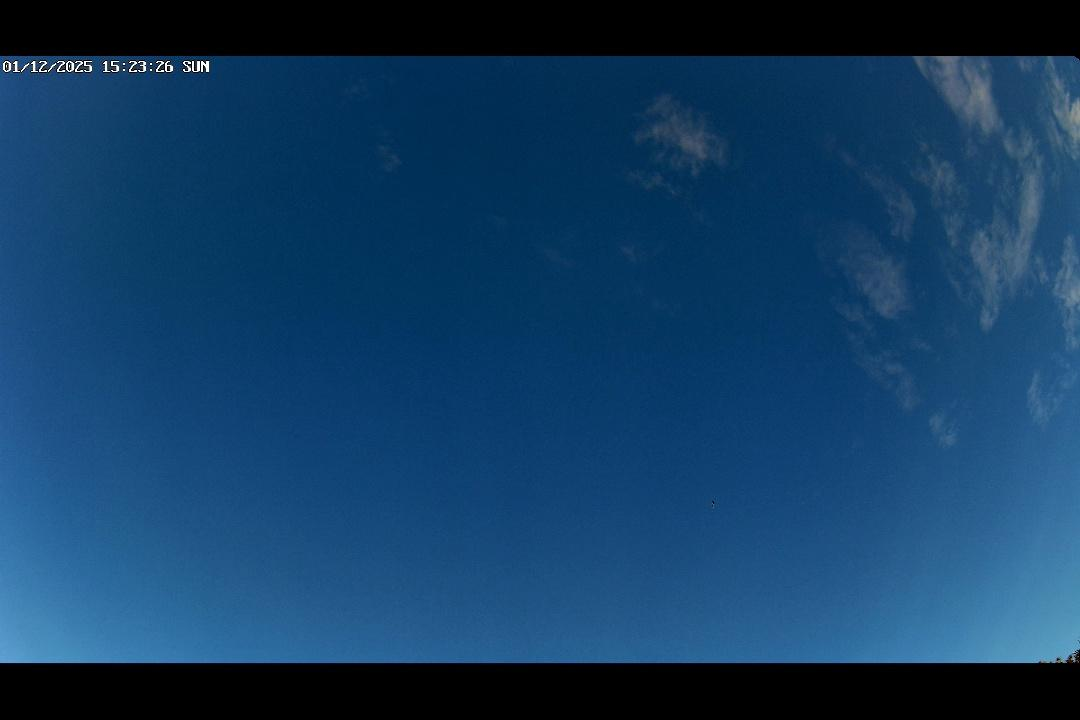WildLife: (703, 498, 723, 509)
